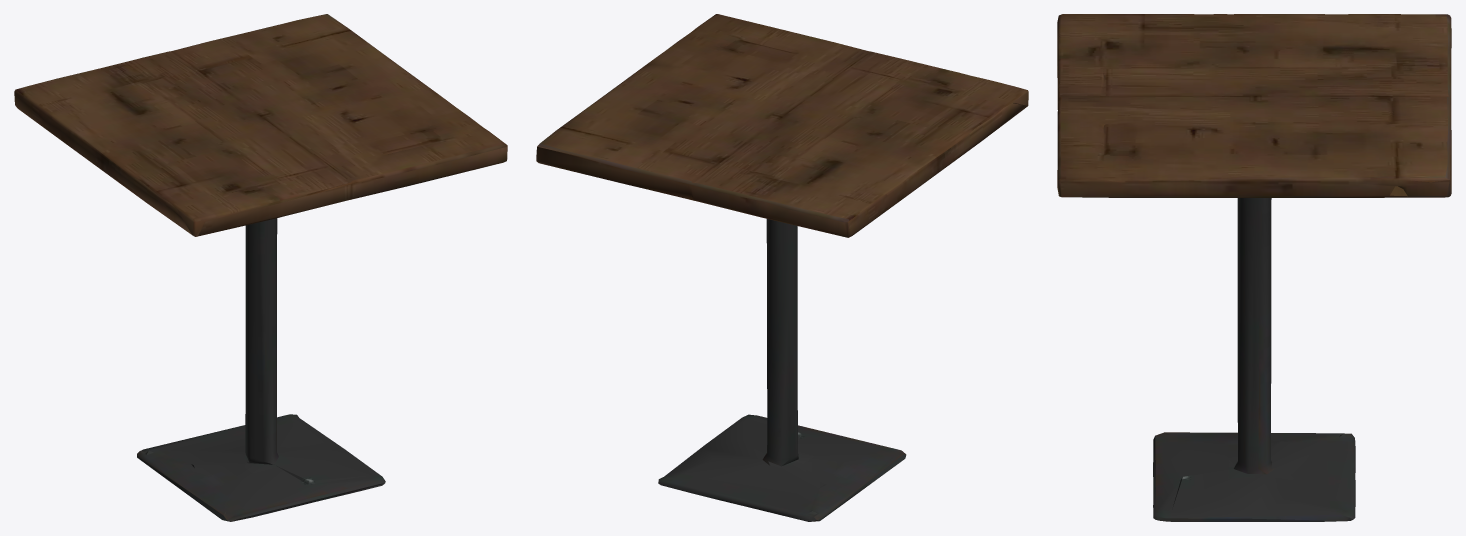
File: cafetable.glb
3 renders of one model, left to right at view 1: azimuth 30°, elevation 25°; view 2: azimuth 150°, elevation 25°; view 3: azimuth 270°, elevation 25°, orthographic. The views are drawn at different scales.
Visible parts, largest first — view 1: cafetable; view 2: cafetable; view 3: cafetable.
Part boxes in pixels (x1=…): cafetable: x1=14, y1=14, x2=507, y2=521; cafetable: x1=536, y1=14, x2=1028, y2=521; cafetable: x1=1057, y1=14, x2=1451, y2=521.
Bounding box in the file's own units: 0.6332 × 0.68 × 0.6328.
Materials: 1 (1 with a texture image).
